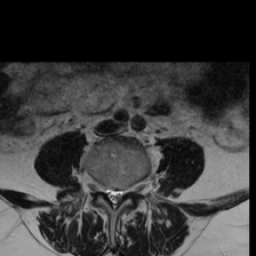CCS_normal: (111, 178, 117, 215)
LFS_stenosis: (124, 177, 133, 200)
LLS_stenosis: (117, 179, 124, 208)
RFS_normal: (96, 172, 104, 200)
RLS_normal: (104, 176, 111, 204)
